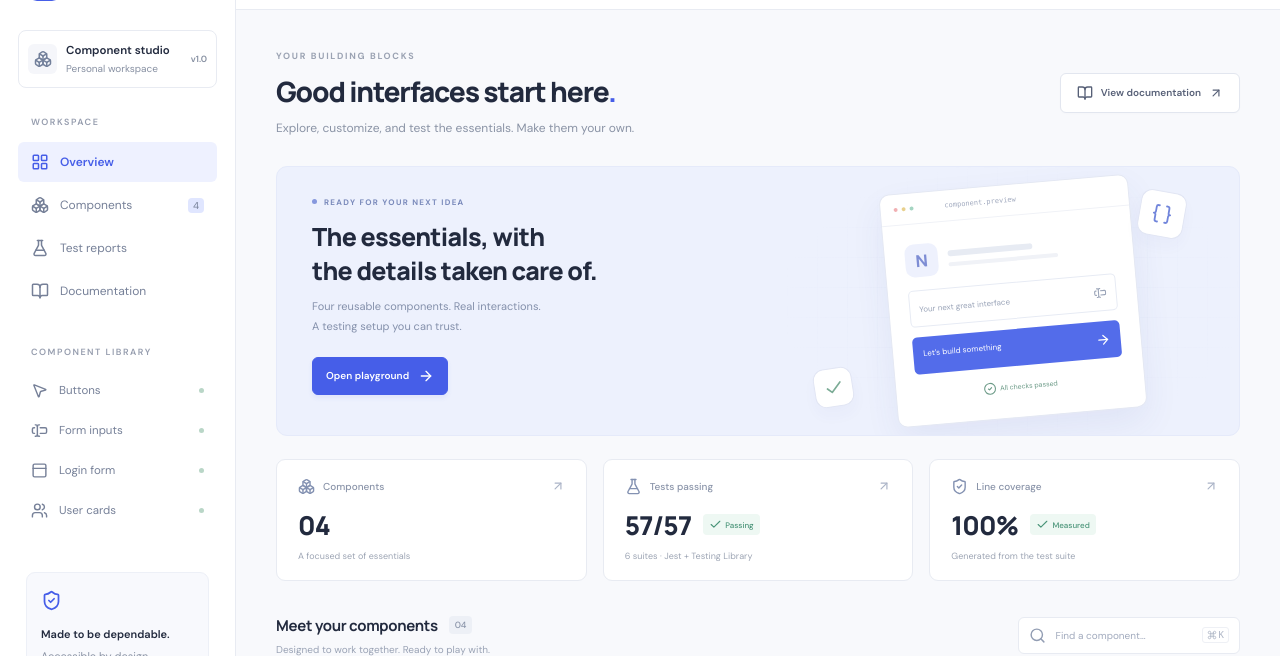
Scenario: Component studio integration › opens a component through filtered search and displays an empty search state
The image size is (1280, 656).
In the field named "Find a component": (1124, 635) [1054,628,1194,643], type "nonexistent"
(page scrolled)
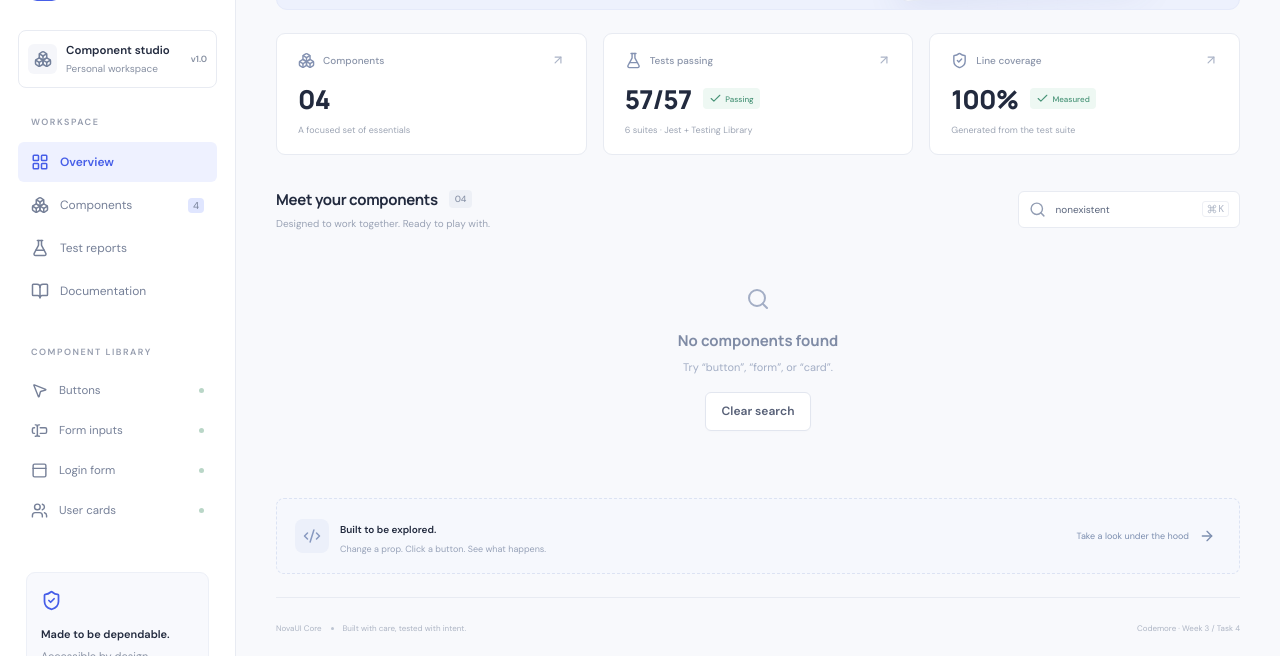
Expected: the heading "No components found" is shown, [678,330,838,351]
Click the button "Clear search": (758, 412) [705,392,811,431]
(page scrolled)
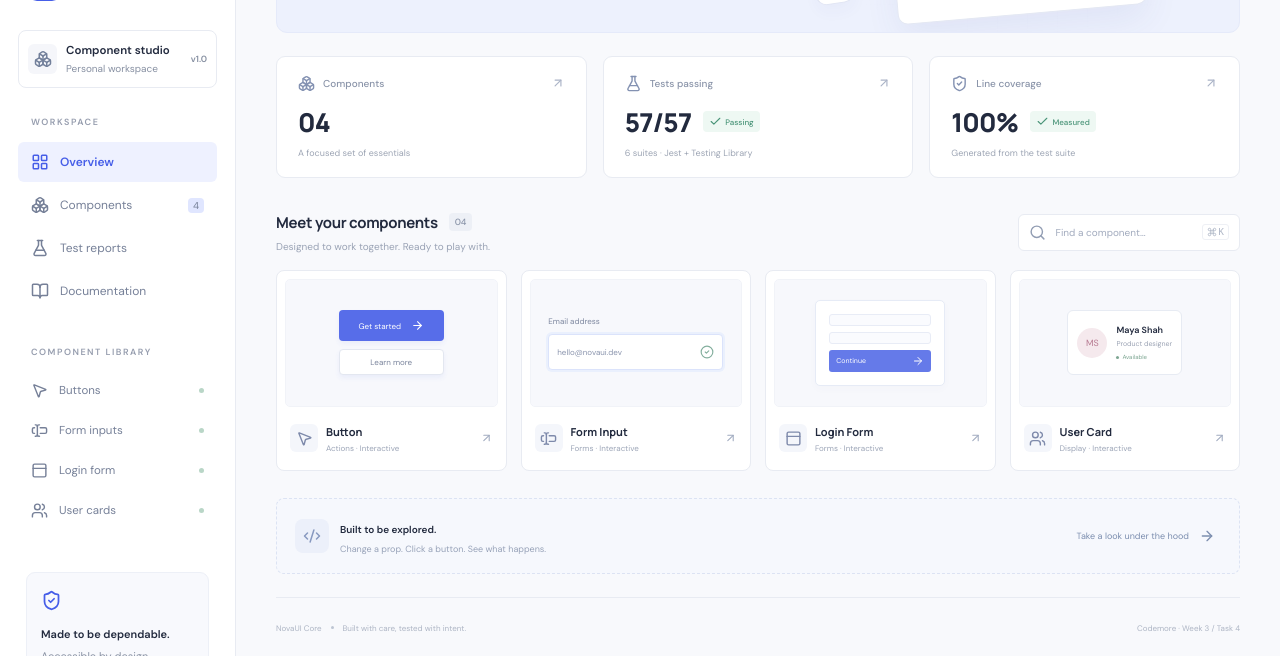
In the field named "Find a component": (1124, 232) [1054,225,1194,240], type "user"
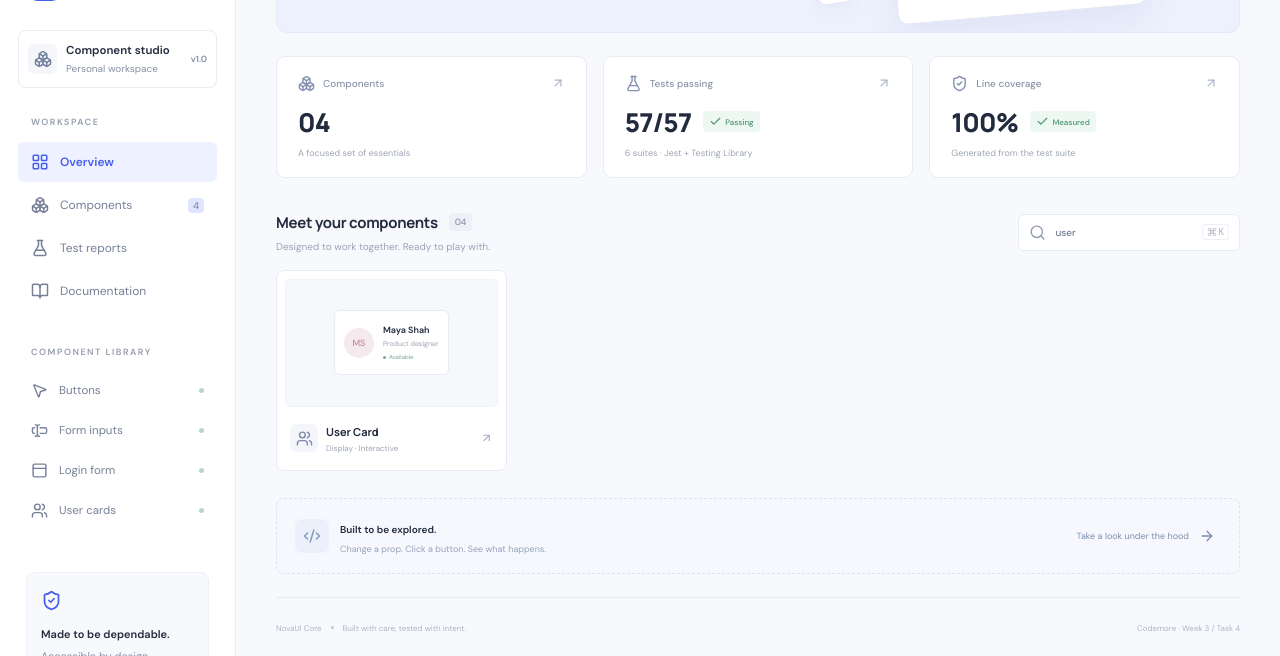
Click the button with aria-label "Explore User Card": (391, 370) [276,270,506,471]
(page scrolled)
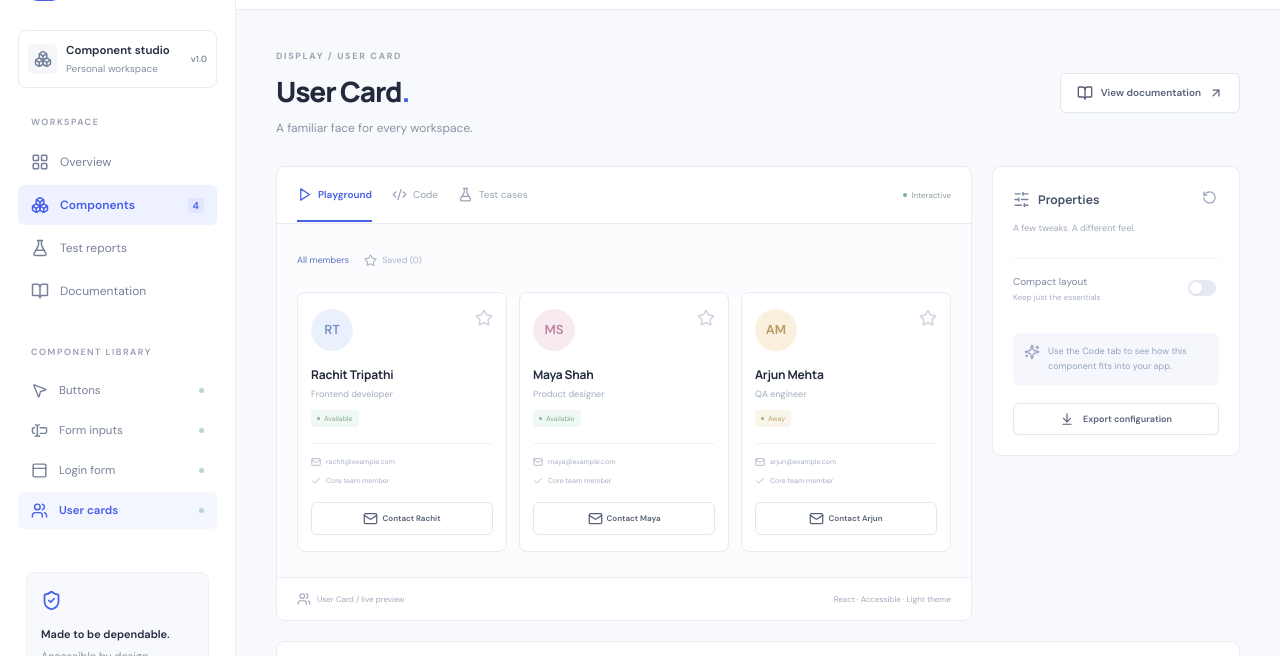
Expected: the heading "User Card." is shown, [276,72,409,110]
